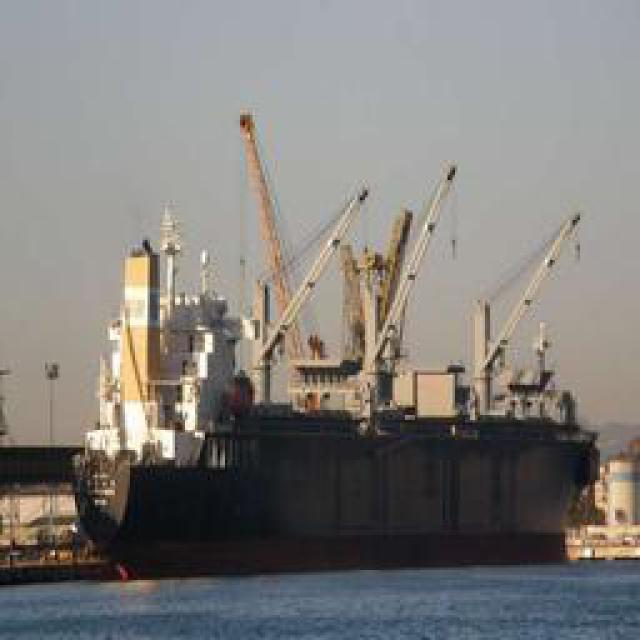Ship: (74, 124, 594, 579)
